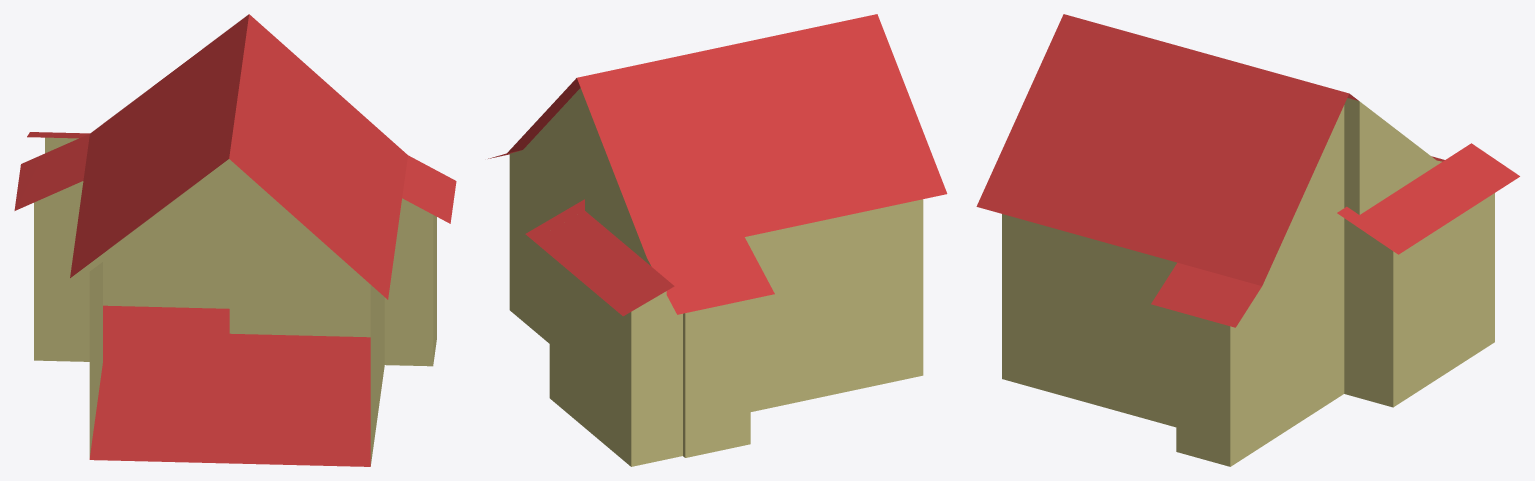
The picture shows the model from 3 angles, left to right: view 1: azimuth 30°, elevation 25°; view 2: azimuth 150°, elevation 25°; view 3: azimuth 270°, elevation 25°; orthographic projection. The views are drawn at different scales.
Bounding box in the file's own units: 20.1 × 22.15 × 13.98.
